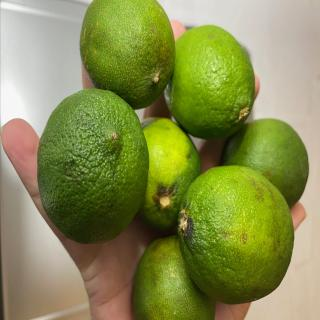Chilli: (36, 87, 150, 244)
Lemon: (177, 164, 295, 305), (79, 0, 176, 110), (164, 24, 255, 140), (221, 118, 309, 209), (138, 116, 202, 230), (132, 234, 216, 320)
